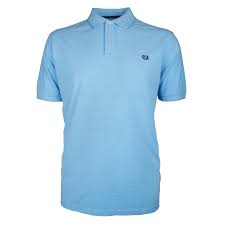S_polo shirt: (34, 10, 189, 218)
